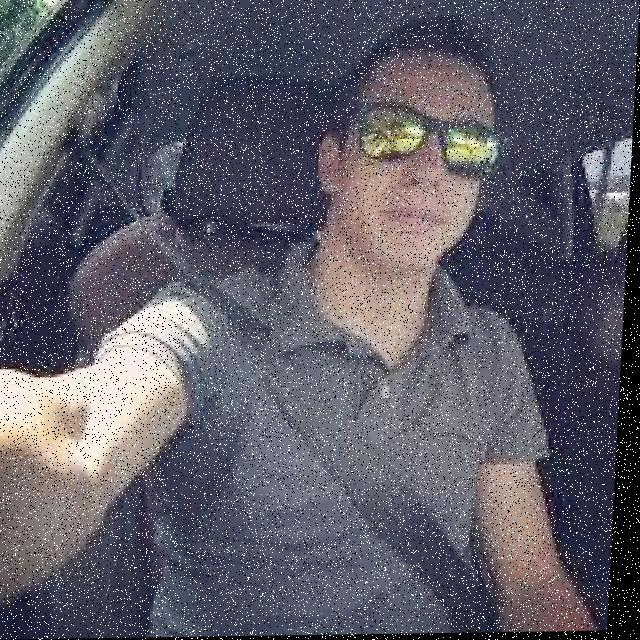seatbelt: (119, 234, 542, 638)
